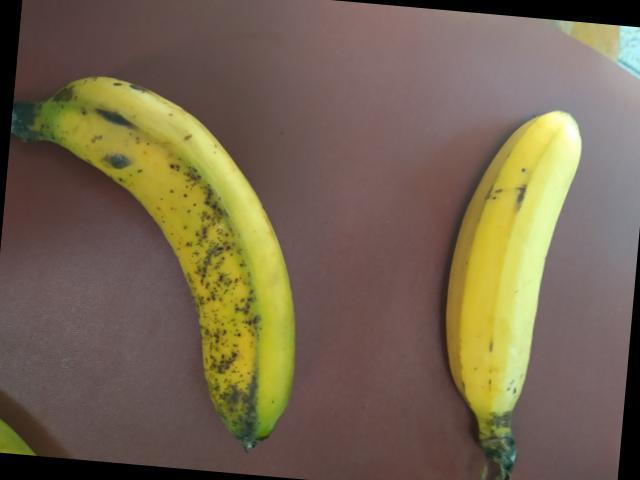freshripe: (426, 87, 594, 473)
ripe: (32, 49, 325, 460)
